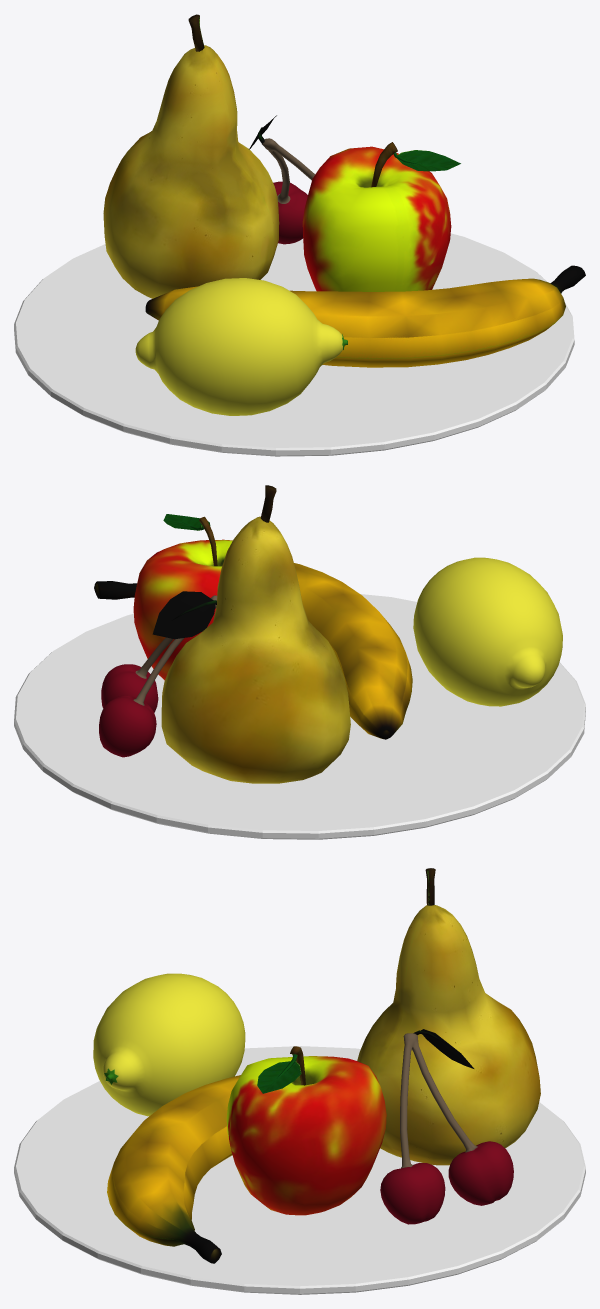
The model's file is obst_nodes.gltf.
3 renders of one model, top to bottom at view 1: azimuth 30°, elevation 25°; view 2: azimuth 150°, elevation 25°; view 3: azimuth 270°, elevation 25°, orthographic. The views are drawn at different scales.
Visible parts, largest first — view 1: Circle, birne, Mesh.010, apfel, banane, kirsche; view 2: Circle, birne, Mesh.010, banane, kirsche, apfel; view 3: Circle, birne, apfel, Mesh.010, banane, kirsche.
Part boxes in pixels (x1,y1,x2,y2): Circle: (14,233,574,456); birne: (103,14,279,298); Mesh.010: (135,278,347,415); apfel: (302,142,460,291); banane: (145,265,585,367); kirsche: (249,115,314,244); Circle: (14,594,585,839); birne: (161,485,350,783); Mesh.010: (413,557,562,706); banane: (94,563,412,739); kirsche: (99,591,217,757); apfel: (133,514,232,680); Circle: (14,1046,585,1294); birne: (357,868,540,1165); apfel: (226,1046,386,1215); Mesh.010: (93,973,245,1116); banane: (107,1075,240,1263); kirsche: (380,1029,513,1224).
Bounding box in the file's own units: 3.52 × 1.95 × 3.5.
8 materials, 3 textured.
